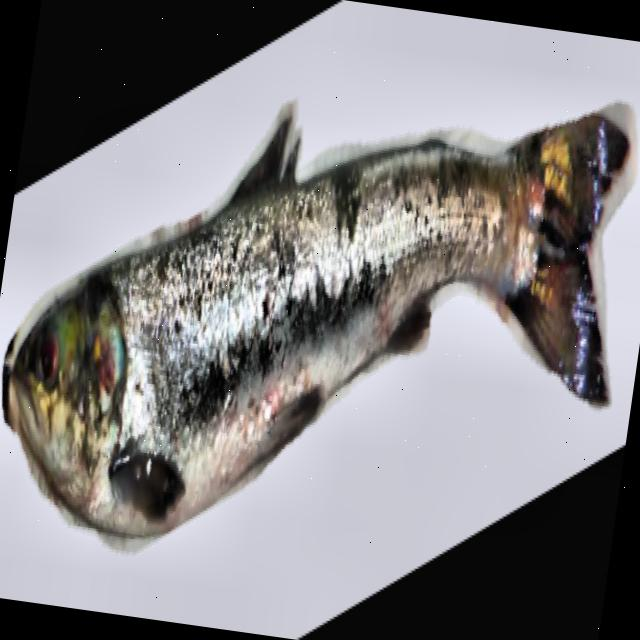mild_red: (113, 145, 556, 521)
